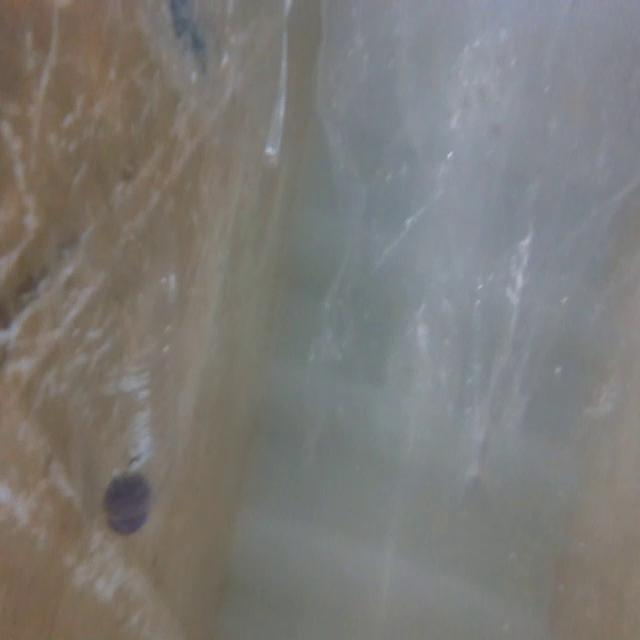plastic bags: (306, 0, 614, 516), (136, 0, 292, 179)
plastic bottle: (47, 192, 193, 539)
